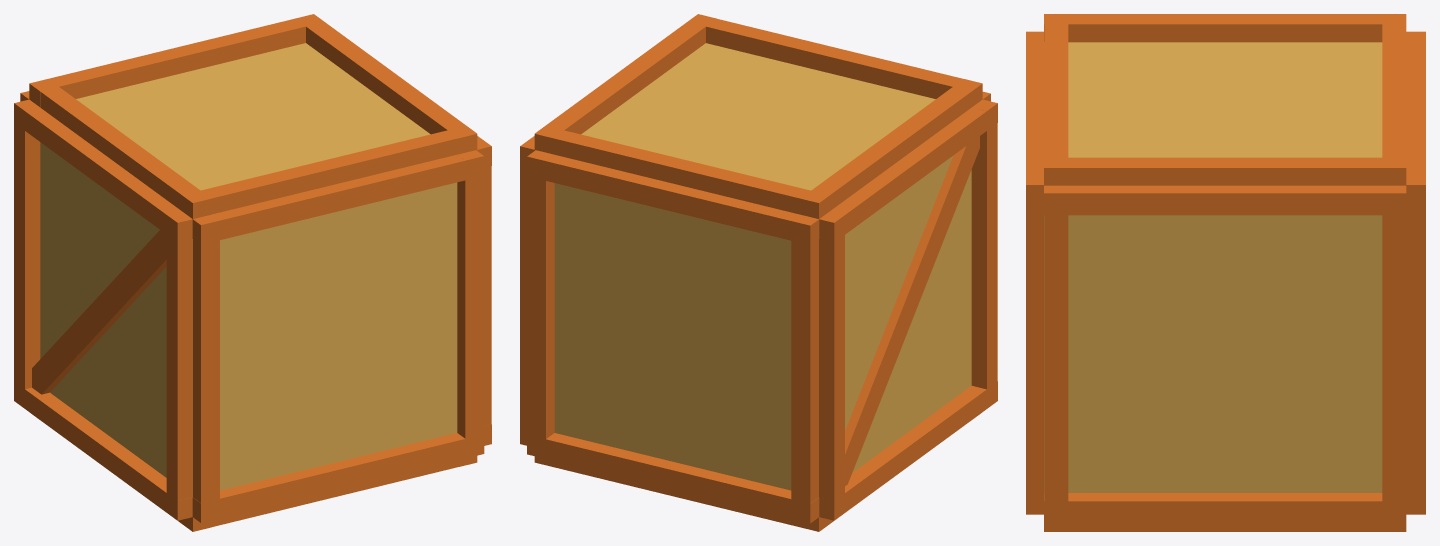
The model's file is caixa_de_madeira.fbx.
The picture shows the model from 3 angles, left to right: view 1: azimuth 30°, elevation 25°; view 2: azimuth 150°, elevation 25°; view 3: azimuth 270°, elevation 25°; orthographic projection. The views are drawn at different scales.
Parts seen in each view (by area): view 1: Cube, Cube.001, Cube.002; view 2: Cube, Cube.001, Cube.002; view 3: Cube, Cube.001.
Part boxes in pixels (x1,y1,x2,y2): Cube: (40,43,457,490); Cube.001: (14,14,491,531); Cube.002: (32,230,166,394); Cube: (554,43,971,490); Cube.001: (520,14,997,531); Cube.002: (845,136,979,485); Cube: (1044,42,1382,492); Cube.001: (1026,14,1425,531).
Size of the model in its own units: 222 by 222 by 221.
